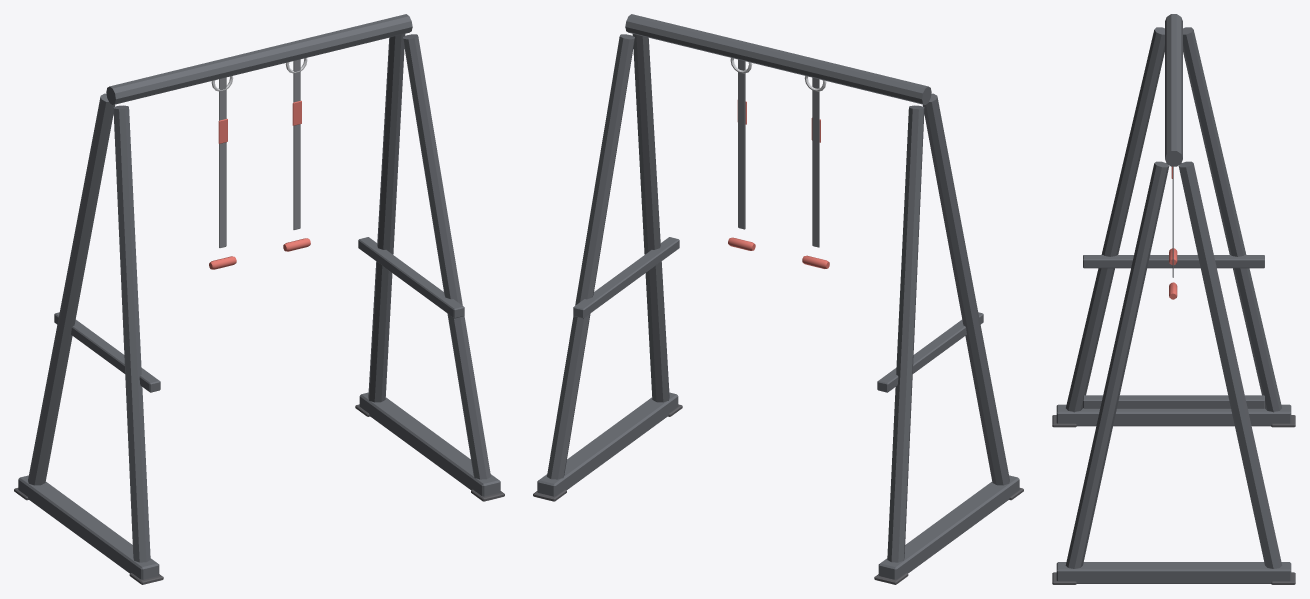
Rendered from suspension_trainer.glb.
3 views of the same model, side by side, from view 1: azimuth 30°, elevation 25°; view 2: azimuth 150°, elevation 25°; view 3: azimuth 270°, elevation 25° (orthographic). The views are drawn at different scales.
Visible parts, largest first — view 1: suspension-trainer-frame; view 2: suspension-trainer-frame; view 3: suspension-trainer-frame.
Boxes of the visible parts, x1,y1,x2,y2 form: suspension-trainer-frame: (14,14,504,584); suspension-trainer-frame: (533,14,1023,584); suspension-trainer-frame: (1052,14,1295,584).
Bounding box in the file's own units: 1.96 × 2.28 × 1.2.
